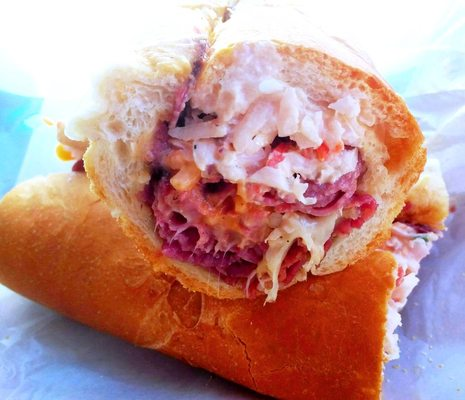soup: (20, 19, 437, 383)
